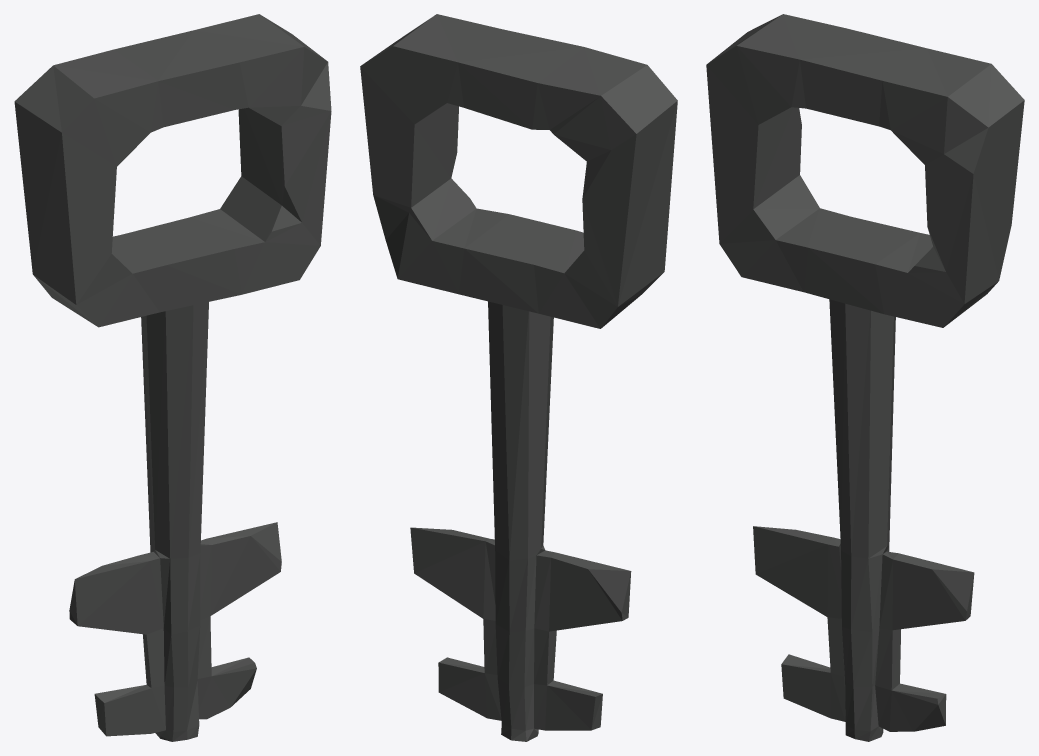
Rendered from Key_001.fbx.
3 views of the same model, side by side, from view 1: azimuth 30°, elevation 25°; view 2: azimuth 150°, elevation 25°; view 3: azimuth 330°, elevation 25° (orthographic).
Visible parts, largest first — view 1: Key_001; view 2: Key_001; view 3: Key_001.
Boxes of the visible parts, x1,y1,x2,y2 form: Key_001: [14, 14, 331, 741]; Key_001: [360, 14, 677, 741]; Key_001: [706, 14, 1024, 741].
Size of the model in its own units: 0.057 by 0.1339 by 0.0166.
